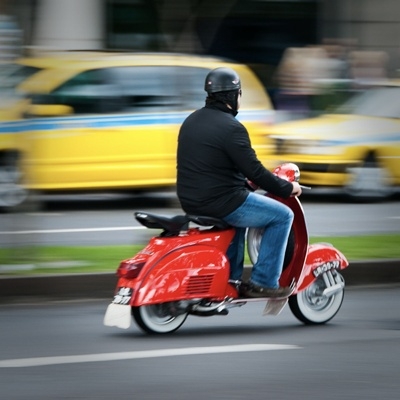helmet: (204, 63, 245, 119)
